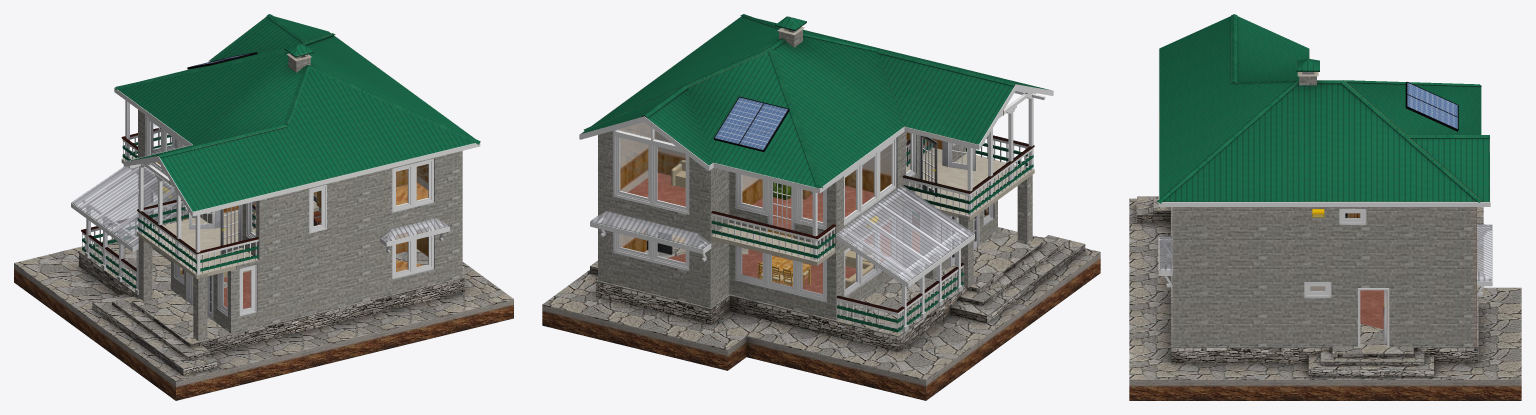
The model's file is residence-wsg-y270.glb.
3 renders of one model, left to right at view 1: azimuth 30°, elevation 25°; view 2: azimuth 150°, elevation 25°; view 3: azimuth 270°, elevation 25°, orthographic. The views are drawn at different scales.
Visible parts, largest first — view 1: Object_7, Object_8, Object_11, Object_14; view 2: Object_7, Object_8, Object_11, Object_14, Object_9, Object_10, Object_4, Object_15; view 3: Object_7, Object_11, Object_8, Object_14, Object_9.
Boxes of the visible parts, x1,y1,x2,y2 form: Object_7: (71,14,480,288); Object_8: (14,208,513,400); Object_11: (121,53,462,341); Object_14: (71,16,480,320); Object_7: (580,14,1050,332); Object_8: (542,216,1100,400); Object_11: (598,27,1034,320); Object_14: (579,16,1053,334); Object_9: (713,96,789,151); Object_10: (671,160,880,289); Object_4: (618,122,907,259); Object_15: (672,229,811,286); Object_7: (1156,14,1492,281); Object_11: (1172,72,1476,346); Object_8: (1129,196,1521,400); Object_14: (1158,16,1492,346); Object_9: (1405,82,1458,131).
Bounding box in the file's own units: 14.57 × 10.16 × 13.37.
16 materials, 10 textured.
